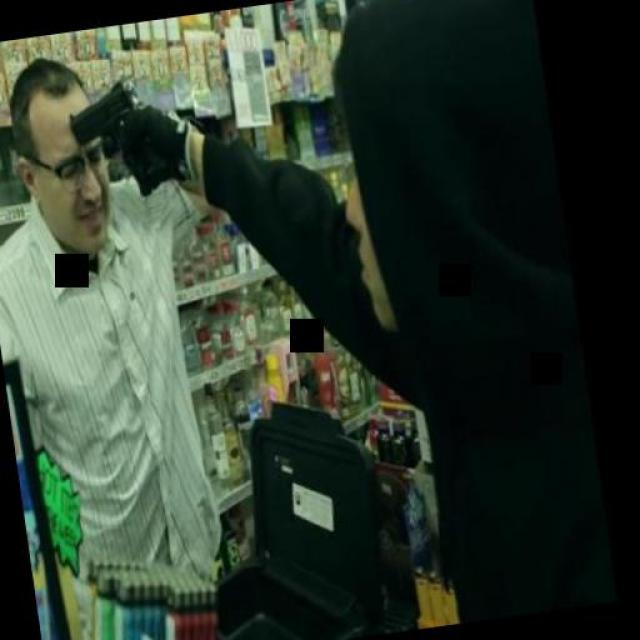gun: (58, 75, 164, 201)
